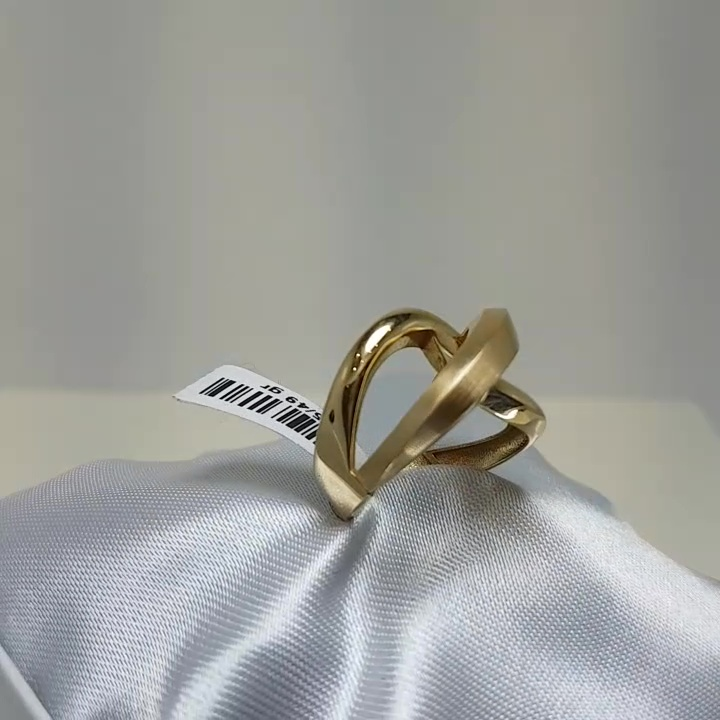Ring 3: (283, 259, 580, 532)
